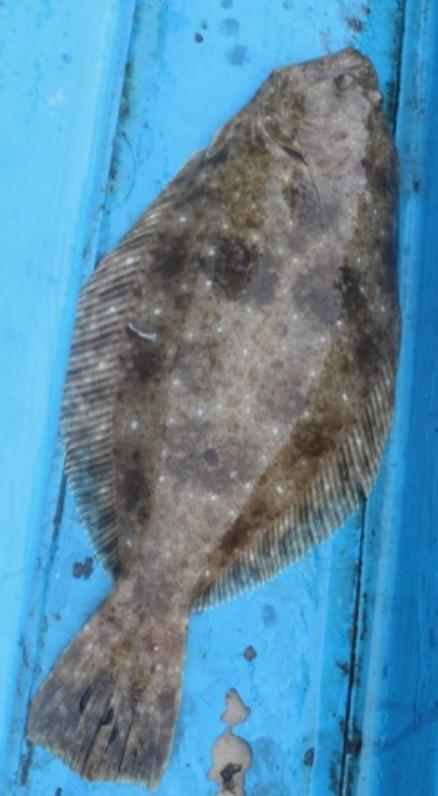fish: (25, 48, 402, 795)
